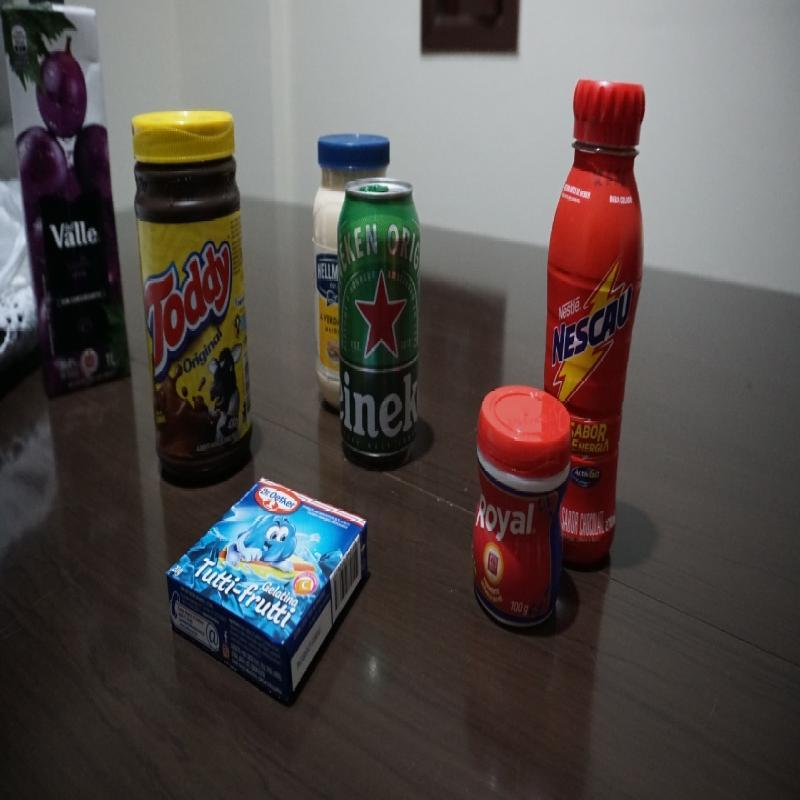Beer can: (337, 178, 422, 453)
Chocolate Milk: (546, 73, 643, 578)
Chocolate Powder: (125, 101, 254, 471)
Gelatine: (163, 480, 371, 684)
Mayonnaise: (312, 125, 388, 412)
Yeast: (471, 387, 573, 652)
